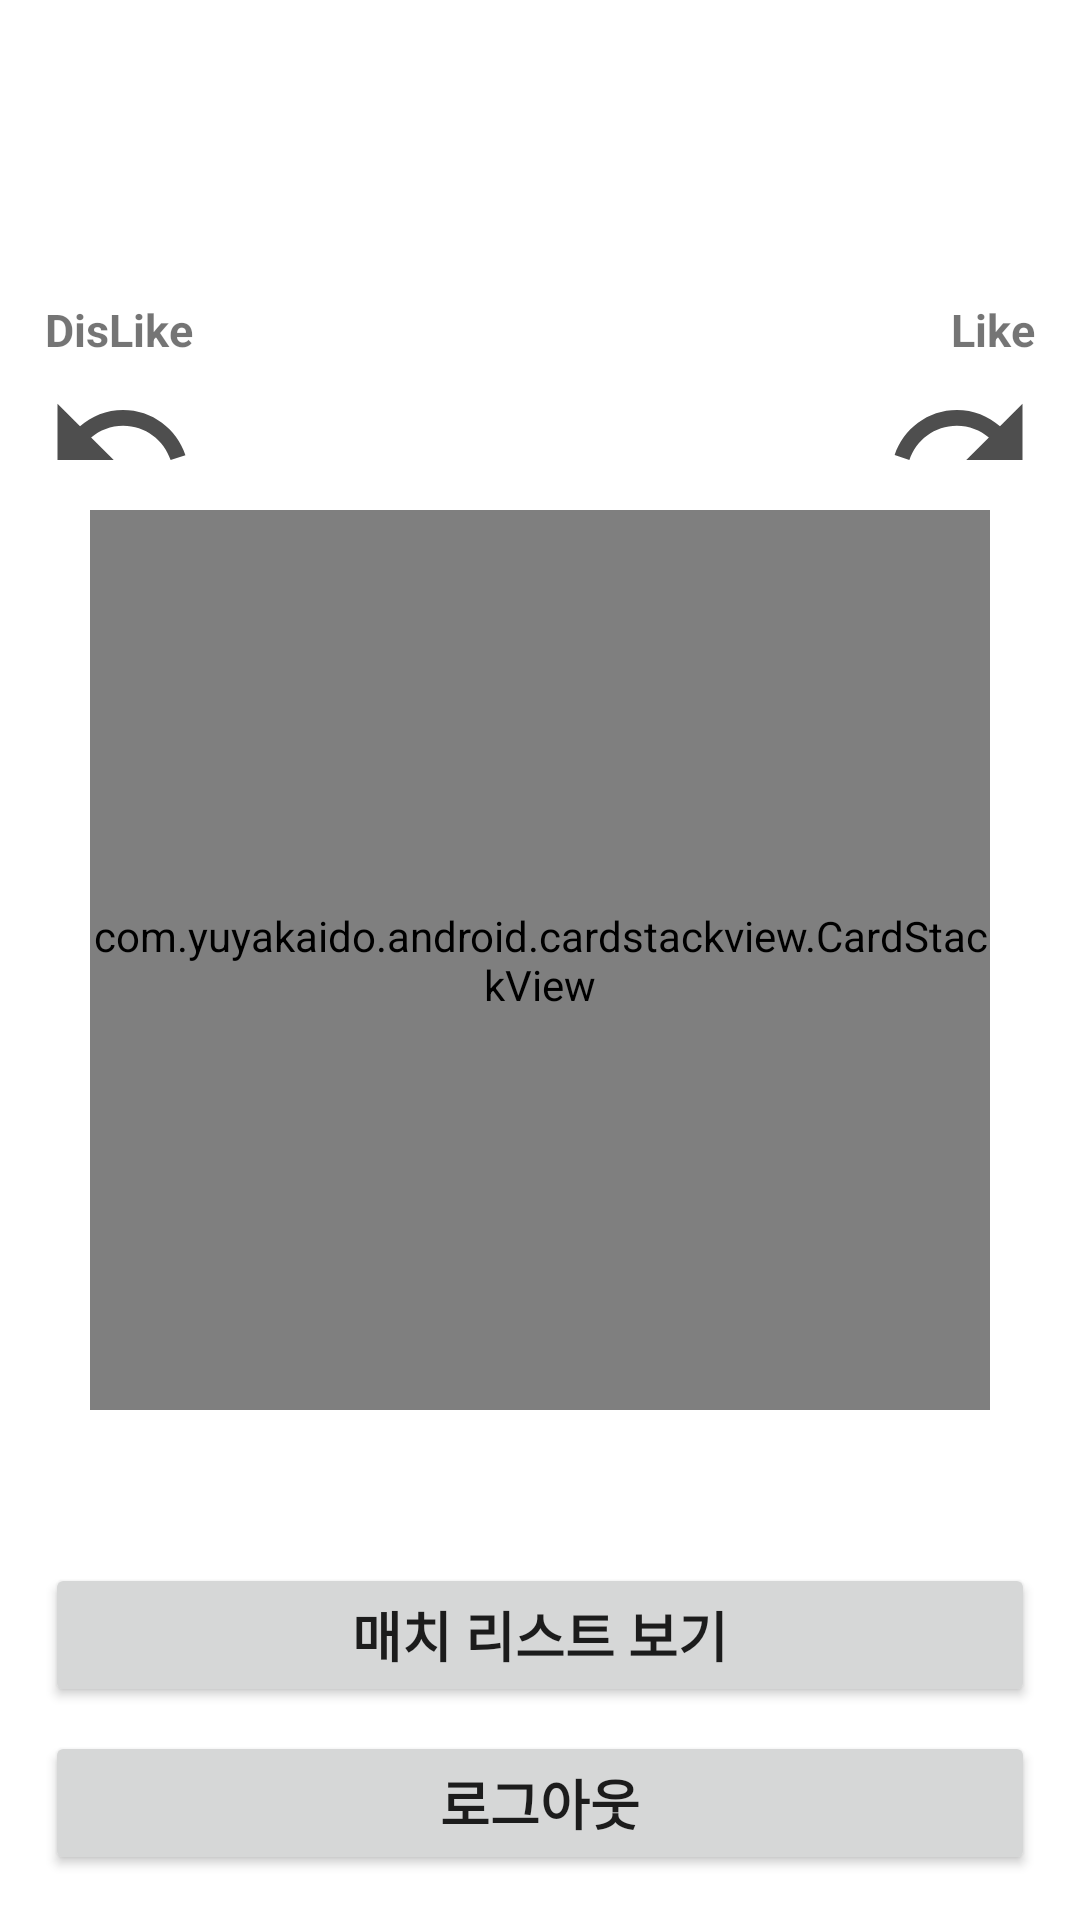

Locate icon controls on the screen. Image size 1080×1920, boxes as Rect(x1, y1, x2, y2).
redo: Rect(894, 404, 1023, 460)
undo: Rect(57, 404, 185, 460)
